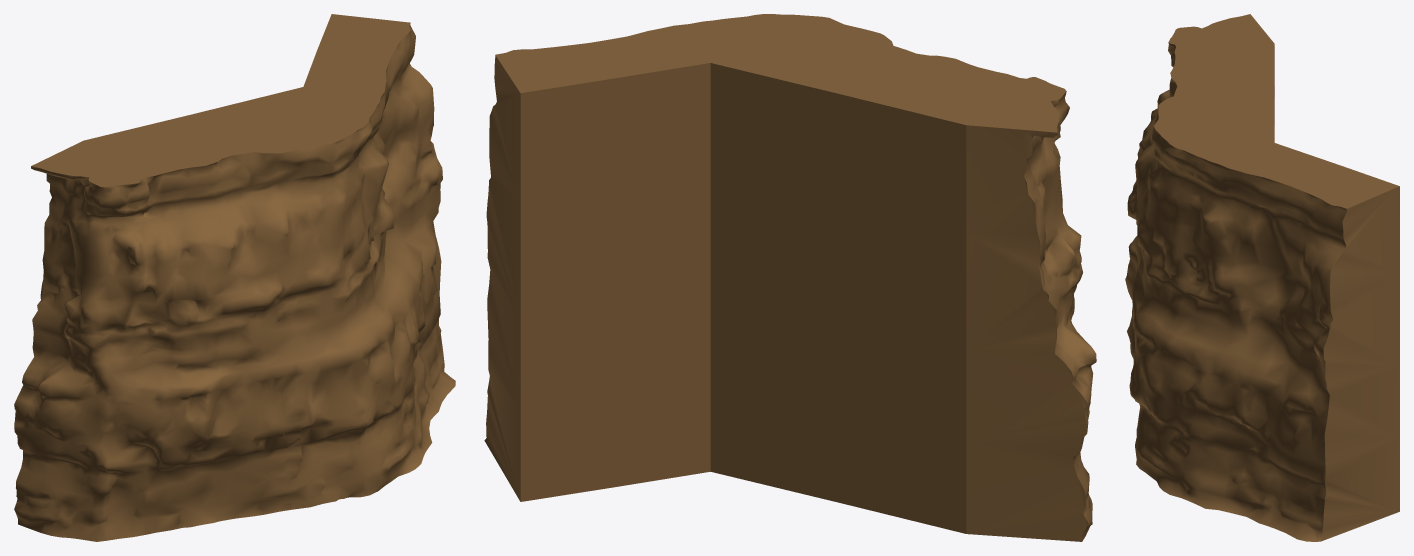
The model's file is MSH_Rocks_Cliff_06_a.FBX.
3 views of the same model, side by side, from view 1: azimuth 30°, elevation 25°; view 2: azimuth 150°, elevation 25°; view 3: azimuth 270°, elevation 25° (orthographic). The views are drawn at different scales.
Visible parts, largest first — view 1: MESH_LOD0, CAP_LOD0; view 2: CAP_LOD0, MESH_LOD0; view 3: MESH_LOD0, CAP_LOD0.
Part boxes in pixels (<box>): MESH_LOD0: <box>14,23,455,541</box>; CAP_LOD0: <box>31,14,410,187</box>; CAP_LOD0: <box>484,14,1088,541</box>; MESH_LOD0: <box>1024,91,1096,541</box>; MESH_LOD0: <box>1125,35,1346,541</box>; CAP_LOD0: <box>1154,14,1399,541</box>.
Size of what is drawn, in the model's own units: 948 by 668 by 511.
